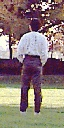person: (13, 15, 49, 113)
